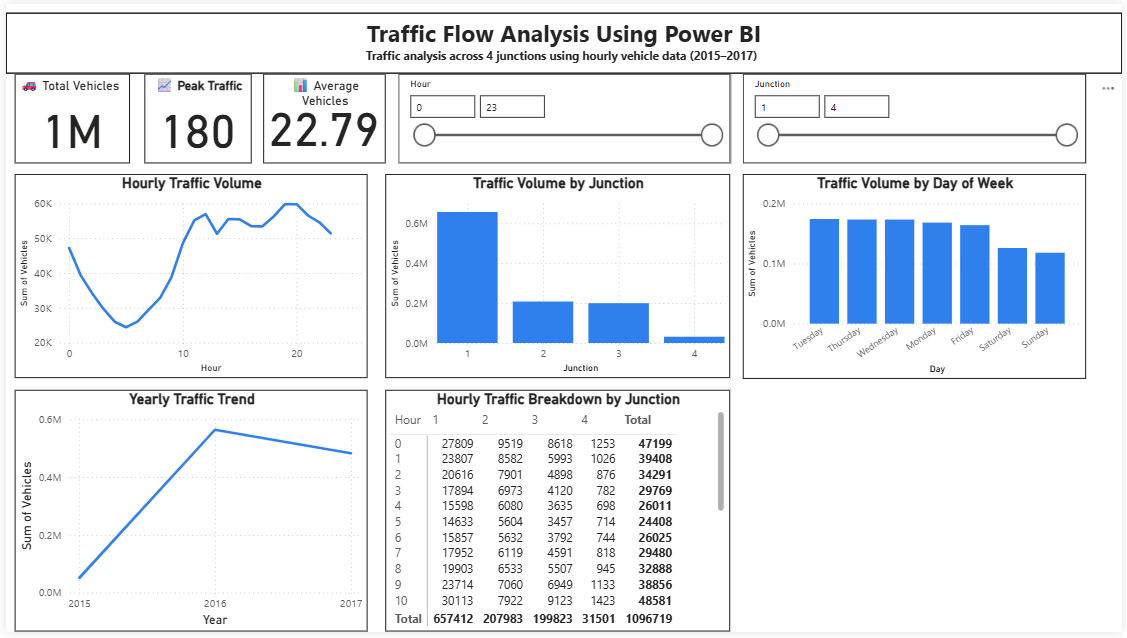

This screenshot's page, from the dashboard's own definition file:
{"tool":"powerbi","page":{"name":"Page 1","canvas":[1280,720],"ordinal":0},"visuals":[{"type":"lineChart","title":"Hourly Traffic Volume","fields":{"Category":["traffic dataset.Hour"],"Y":["Sum(traffic dataset.Vehicles)"]},"box":[10,195,405,233.8],"z":0},{"type":"clusteredColumnChart","title":"Traffic Volume by Junction","fields":{"Category":["traffic dataset.Junction"],"Y":["Sum(traffic dataset.Vehicles)"]},"box":[435.2,195.5,395.5,234.2],"z":1000},{"type":"columnChart","title":"Traffic Volume by Day of Week","fields":{"Y":["Sum(traffic dataset.Vehicles)"],"Category":["traffic dataset.Day"]},"box":[845,195,393.8,235],"z":2000},{"type":"lineChart","title":"Yearly Traffic Trend","fields":{"Category":["traffic dataset.DateTime.Variation.Date Hierarchy.Year"],"Y":["Sum(traffic dataset.Vehicles)"]},"box":[10,442.5,405,277.5],"z":3000},{"type":"pivotTable","title":"Hourly Traffic Breakdown by Junction","fields":{"Rows":["traffic dataset.Hour"],"Columns":["traffic dataset.Junction"],"Values":["Sum(traffic dataset.Vehicles)"]},"box":[435.2,443,395.5,277.3],"z":4000},{"type":"textbox","box":[0,10,1280,70],"z":5000},{"type":"slicer","fields":{"Values":["traffic dataset.Hour"]},"box":[449.6,79.5,381.1,102.7],"z":6000},{"type":"card","title":"🚗 Total Vehicles","fields":{"Values":["traffic dataset.Total Vehicles"]},"box":[10,80,132.5,102.5],"z":7000},{"type":"card","title":"📈 Peak Traffic","fields":{"Values":["traffic dataset.Peak Traffic"]},"box":[159.1,79.5,122.6,102.7],"z":8000},{"type":"card","title":"📊 Average Vehicles","fields":{"Values":["traffic dataset.Average Vehicles"]},"box":[295,80,140,102.5],"z":9000},{"type":"slicer","fields":{"Values":["traffic dataset.Junction"]},"box":[845,80,393.8,102.5],"z":10000},{"type":"textbox","box":[407.6,45.3,472.8,36.5],"z":11000},{"type":"scatterChart","fields":{"X":["Sum(traffic dataset.Hour)"],"Y":["Sum(traffic dataset.Vehicles)"]},"box":[845,443,394,277],"z":12000}]}

Visuals, with their boxes in screenshot pixels (x1, y1, x2, y2), scaled from the page's 1280x720 canvas onto the 1127x638 screenshot:
"Hourly Traffic Volume" lineChart: 9, 173, 365, 380
"Traffic Volume by Junction" clusteredColumnChart: 383, 173, 731, 381
"Traffic Volume by Day of Week" columnChart: 744, 173, 1091, 381
"Yearly Traffic Trend" lineChart: 9, 392, 365, 637
"Hourly Traffic Breakdown by Junction" pivotTable: 383, 393, 731, 637
textbox: 0, 9, 1126, 71
slicer - traffic dataset.Hour: 396, 70, 731, 161
"🚗 Total Vehicles" card: 9, 71, 125, 162
"📈 Peak Traffic" card: 140, 70, 248, 161
"📊 Average Vehicles" card: 260, 71, 383, 162
slicer - traffic dataset.Junction: 744, 71, 1091, 162
textbox: 359, 40, 775, 72
scatterChart - Sum(traffic dataset.Hour) x Sum(traffic dataset.Vehicles): 744, 393, 1091, 637
